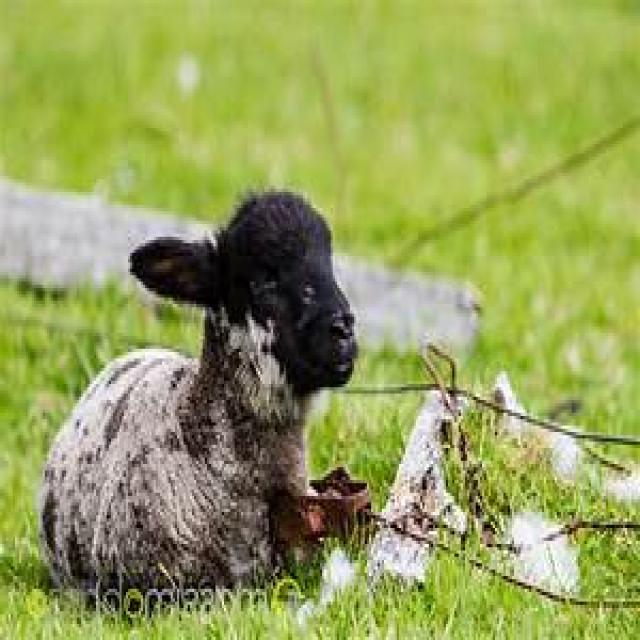sheep: (32, 163, 364, 623)
